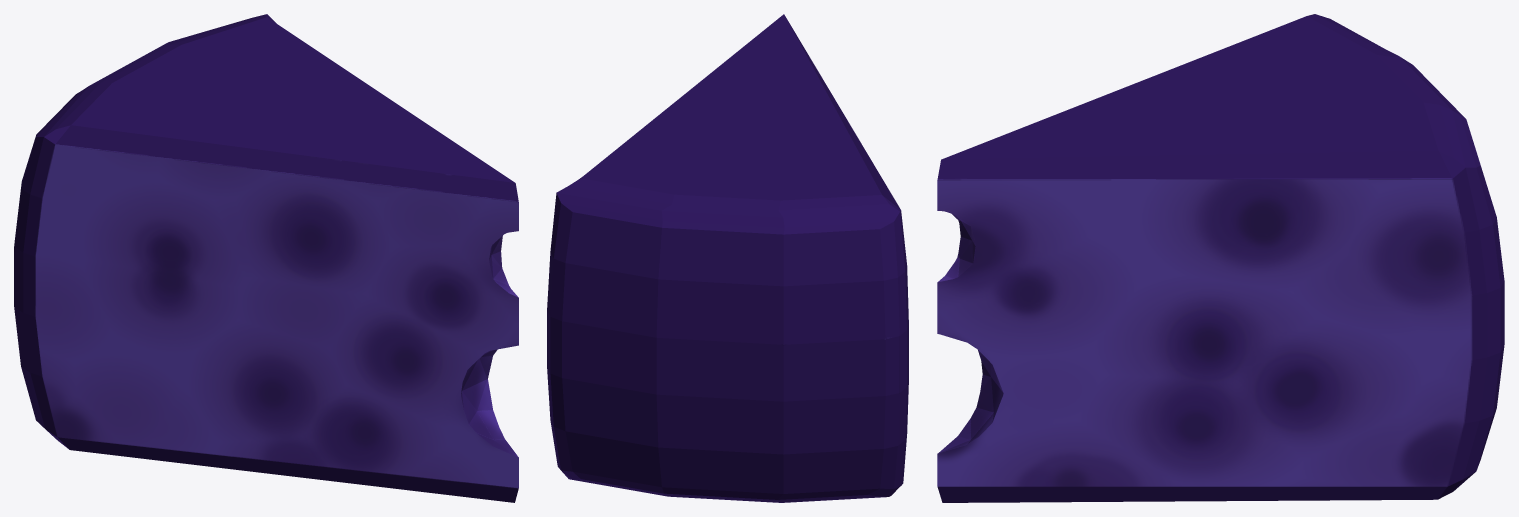
The model's file is GoudaBakerFIX.gltf.
3 views of the same model, side by side, from view 1: azimuth 30°, elevation 25°; view 2: azimuth 150°, elevation 25°; view 3: azimuth 270°, elevation 25° (orthographic). The views are drawn at different scales.
Parts seen in each view (by area): view 1: Cylinder.011; view 2: Cylinder.011; view 3: Cylinder.011.
Boxes of the visible parts, bbox=[...] form: Cylinder.011: bbox=[14, 14, 518, 502]; Cylinder.011: bbox=[547, 14, 908, 502]; Cylinder.011: bbox=[937, 14, 1504, 502].
Size of the model in its own units: 0.6854 by 0.6694 by 1.
1 material, 1 textured.
